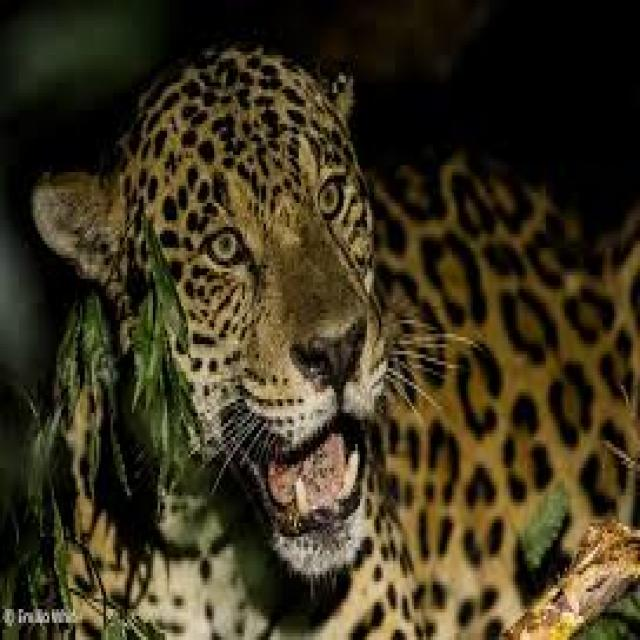Jaguar: (30, 41, 640, 639)
